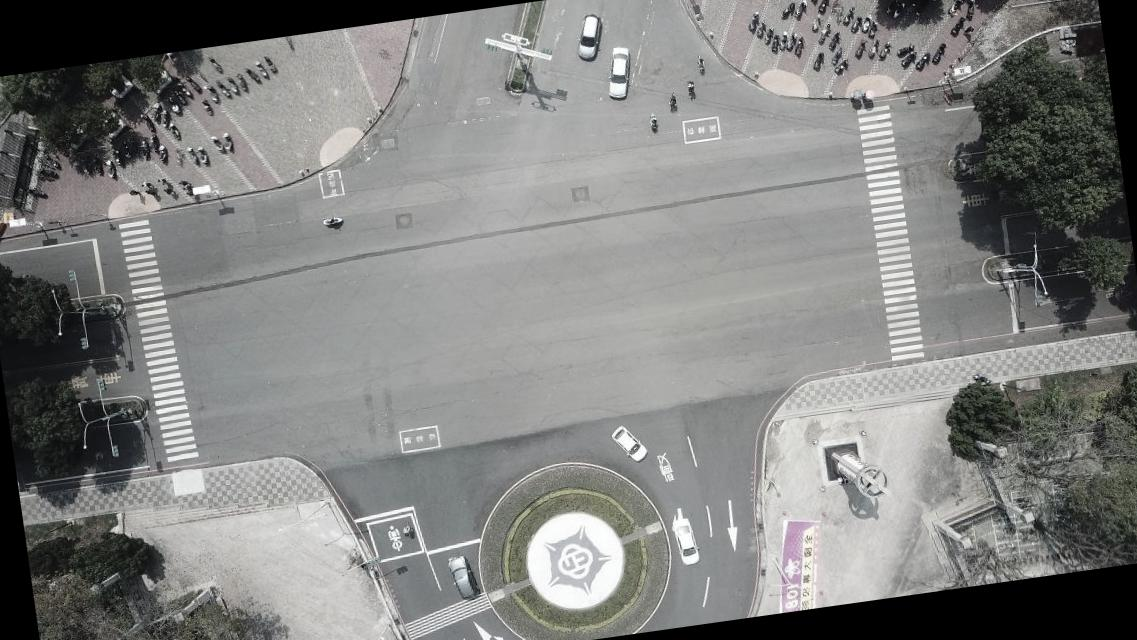vehicle: (600, 44, 638, 104), (442, 552, 482, 604), (569, 10, 608, 62), (608, 421, 650, 466), (670, 515, 702, 568)
